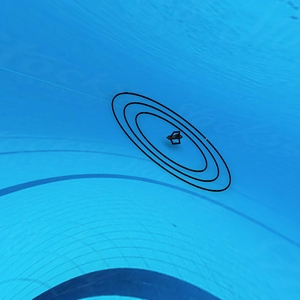circle: (98, 87, 241, 197)
submarine: (166, 134, 191, 151)
